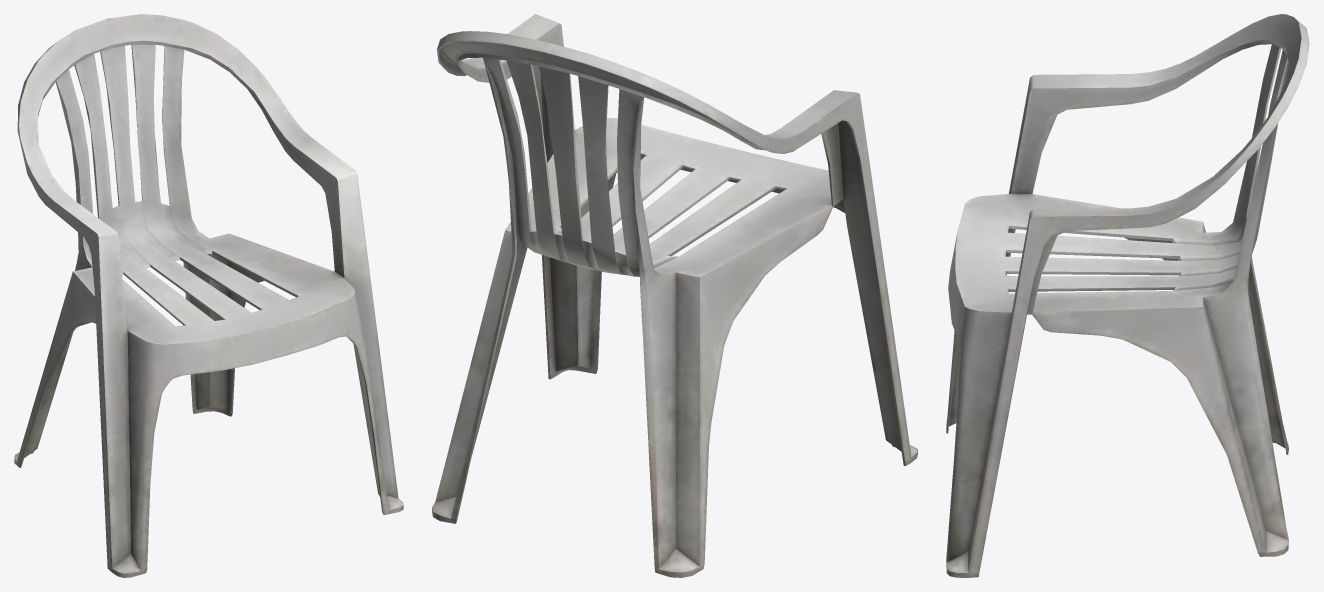
Rendered from plastic_monobloc_chair_01.29668752.glb.
3 views of the same model, side by side, from view 1: azimuth 30°, elevation 25°; view 2: azimuth 150°, elevation 25°; view 3: azimuth 270°, elevation 25° (orthographic). The views are drawn at different scales.
Parts seen in each view (by area): view 1: plastic_monobloc_chair_01; view 2: plastic_monobloc_chair_01; view 3: plastic_monobloc_chair_01.
Part boxes in pixels (x1,y1,x2,y2): plastic_monobloc_chair_01: [14, 14, 403, 577]; plastic_monobloc_chair_01: [432, 14, 917, 577]; plastic_monobloc_chair_01: [946, 14, 1309, 577].
Bounding box in the file's own units: 0.6419 × 0.8798 × 0.6276.
1 material, 1 textured.
